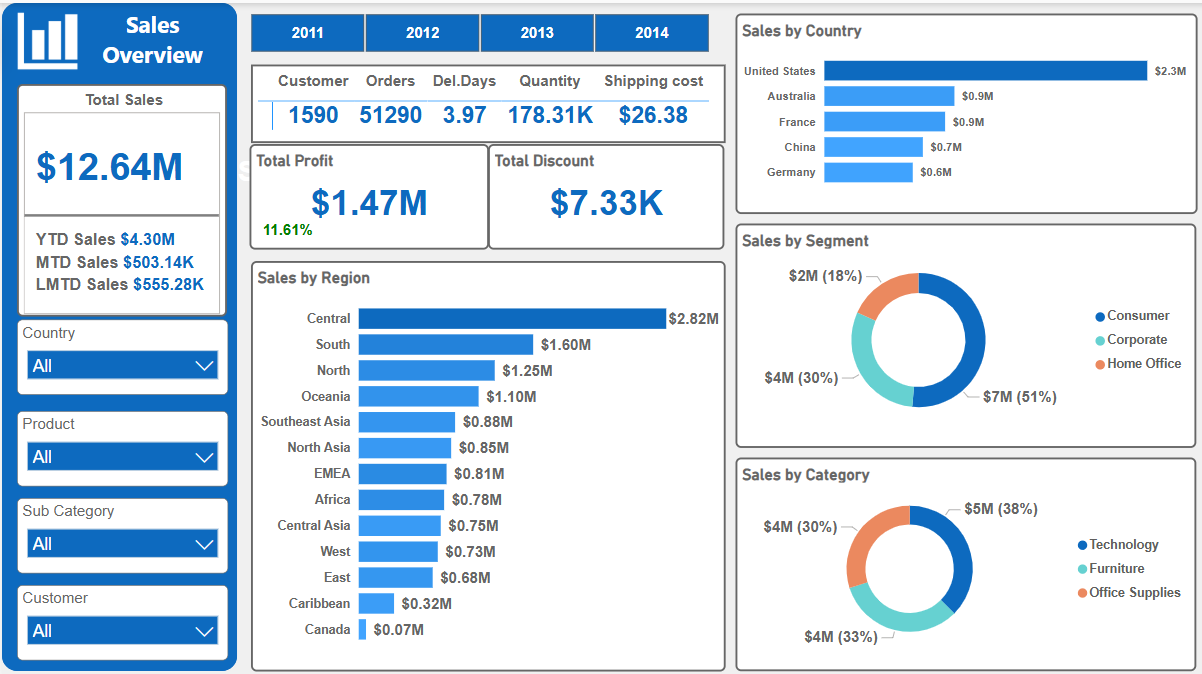

The dashboard page shown, as its layout file describes it:
{"tool":"powerbi","page":{"name":"Sales Overview","canvas":[1280,720],"ordinal":0},"visuals":[{"type":"shape","box":[0,0,249.4,708.7],"z":0},{"type":"actionButton","title":"Sales Overview","box":[238.1,163,238.1,34],"z":1000},{"type":"cardVisual","title":"Total Sales","fields":{"Data":["Measures Table.Total Sales"]},"box":[15.6,86.5,222.5,246.6],"z":2000},{"type":"pivotTable","fields":{"Values":["Measures Table.Total Customer","Measures Table.Total Order","Measures Table.Avg Del.Days","Measures Table.Total Quantity","Measures Table.Avg shipping cost"]},"box":[263.6,65.2,503.1,83.6],"z":3000},{"type":"card","title":"Total Profit","fields":{"Values":["Measures Table.Total Profit"]},"box":[262.2,148.8,253.7,112],"z":4000},{"type":"card","fields":{"Values":["Measures Table.Profit Margin%"]},"box":[262.2,223.9,80.8,34],"z":5000},{"type":"card","title":"Total Discount","fields":{"Values":["Measures Table.Total Discount"]},"box":[515.9,148.8,250.9,112],"z":6000},{"type":"barChart","title":"Sales by Region","fields":{"Category":["Power BI Assignment - Power BI Dashboard (1).Region"],"Y":["Measures Table.Total Sales"]},"box":[263.6,273.5,503.1,435.1],"z":7000},{"type":"donutChart","title":"Sales by Category","fields":{"Category":["Power BI Assignment - Power BI Dashboard (1).Category"],"Y":["Measures Table.Total Sales"]},"box":[778.1,481.9,489,226.8],"z":8000},{"type":"donutChart","title":"Sales by Segment","fields":{"Y":["Measures Table.Total Sales"],"Category":["Power BI Assignment - Power BI Dashboard (1).Segment"]},"box":[778.1,233.9,489,238.1],"z":9000},{"type":"barChart","title":"Sales by Country","fields":{"Category":["Power BI Assignment - Power BI Dashboard (1).Country"],"Y":["Measures Table.Total Sales"]},"box":[777.7,10.7,489.8,212.7],"z":10000},{"type":"slicer","fields":{"Values":["Calendar Table.Year"]},"box":[238.1,4.3,534.3,53.9],"z":11000},{"type":"slicer","title":"Product ","fields":{"Values":["Power BI Assignment - Power BI Dashboard (1).Product Name"]},"box":[16,432,224,80],"z":12000},{"type":"slicer","title":"Country","fields":{"Values":["Power BI Assignment - Power BI Dashboard (1).Country"]},"box":[16,336,224,80],"z":13000},{"type":"image","box":[0,0,96,80],"z":16000},{"type":"textbox","box":[80,0,160,80],"z":17000},{"type":"slicer","title":"Sub Category ","fields":{"Values":["Power BI Assignment - Power BI Dashboard (1).Sub-Category"]},"box":[16,525,224,80],"z":17001},{"type":"slicer","title":"Customer ","fields":{"Values":["Power BI Assignment - Power BI Dashboard (1).Customer Name"]},"box":[16,617,224,80],"z":17002}]}

Visuals, with their boxes in screenshot pixels (x1, y1, x2, y2), scaled from the page's 1280x720 canvas onto the 1202x674 screenshot:
shape: l=0, t=0, r=234, b=663
"Sales Overview" actionButton: l=224, t=153, r=447, b=184
"Total Sales" cardVisual: l=15, t=81, r=224, b=312
pivotTable - Measures Table.Total Customer x Measures Table.Total Order: l=248, t=61, r=720, b=139
"Total Profit" card: l=246, t=139, r=484, b=244
card - Measures Table.Profit Margin%: l=246, t=210, r=322, b=241
"Total Discount" card: l=484, t=139, r=720, b=244
"Sales by Region" barChart: l=248, t=256, r=720, b=663
"Sales by Category" donutChart: l=731, t=451, r=1190, b=663
"Sales by Segment" donutChart: l=731, t=219, r=1190, b=442
"Sales by Country" barChart: l=730, t=10, r=1190, b=209
slicer - Calendar Table.Year: l=224, t=4, r=725, b=54
"Product " slicer: l=15, t=404, r=225, b=479
"Country" slicer: l=15, t=315, r=225, b=389
image: l=0, t=0, r=90, b=75
textbox: l=75, t=0, r=225, b=75
"Sub Category " slicer: l=15, t=491, r=225, b=566
"Customer " slicer: l=15, t=578, r=225, b=652
